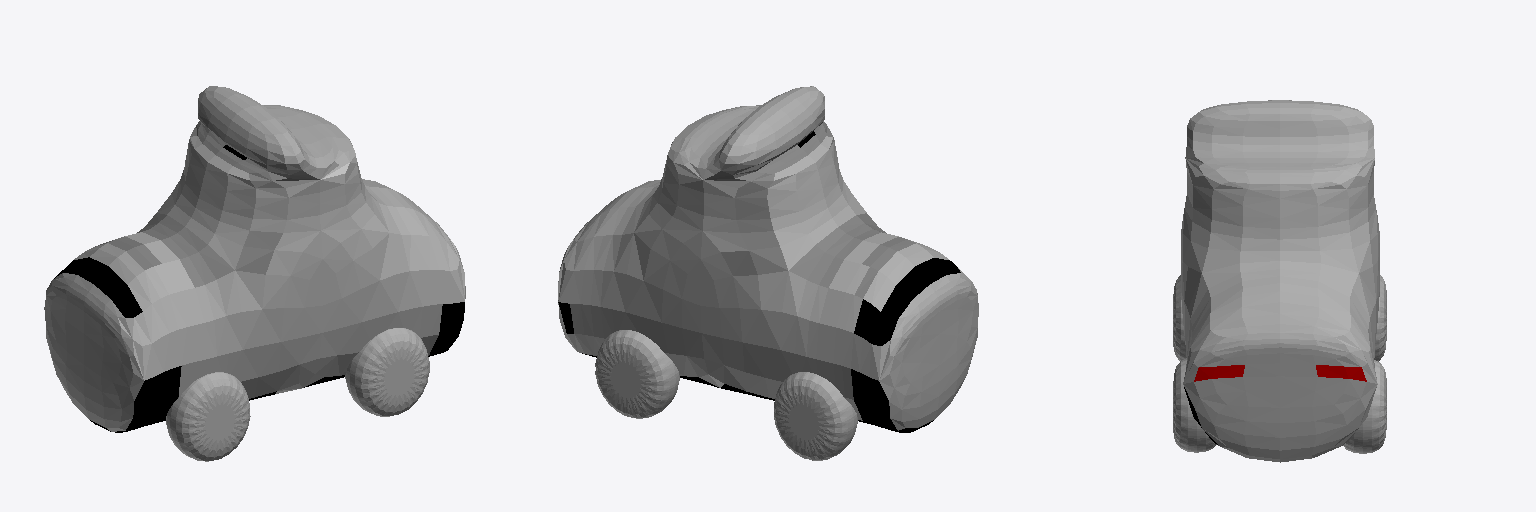
File: police-car.obj
3 views of the same model, side by side, from view 1: azimuth 30°, elevation 25°; view 2: azimuth 150°, elevation 25°; view 3: azimuth 270°, elevation 25° (orthographic).
Visible parts, largest first — view 1: Box, Cylinder1, Cylinder; view 2: Box, Cylinder3, Cylinder2; view 3: Box, Cylinder, Cylinder3, Cylinder1, Cylinder2.
Boxes of the visible parts, x1,y1,x2,y2 form: Box: [44, 86, 465, 432]; Cylinder1: [166, 372, 250, 461]; Cylinder: [345, 328, 429, 416]; Box: [558, 86, 978, 432]; Cylinder3: [595, 330, 679, 418]; Cylinder2: [774, 372, 857, 460]; Box: [1181, 100, 1379, 462]; Cylinder: [1173, 358, 1216, 452]; Cylinder3: [1343, 360, 1386, 453]; Cylinder1: [1173, 275, 1186, 360]; Cylinder2: [1374, 275, 1386, 361].
Size of the model in its own units: 2 by 1.67 by 1.07.